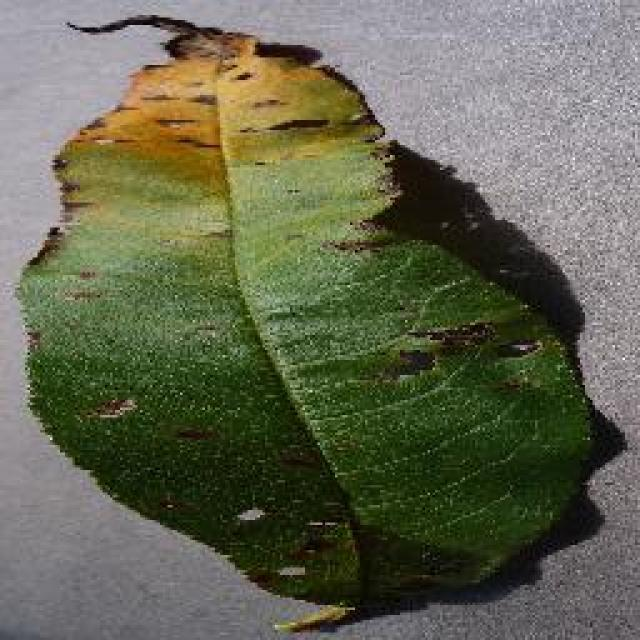Peach_Bacterial_Spot: (77, 19, 530, 538)
